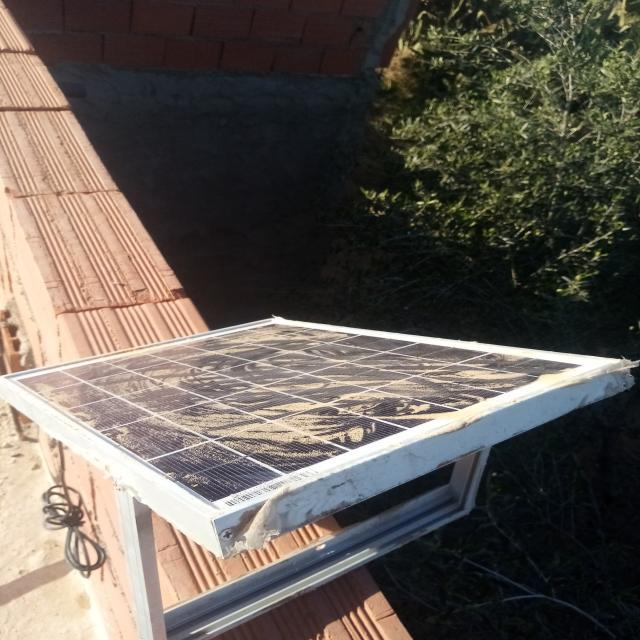faulty: (2, 317, 630, 520)
